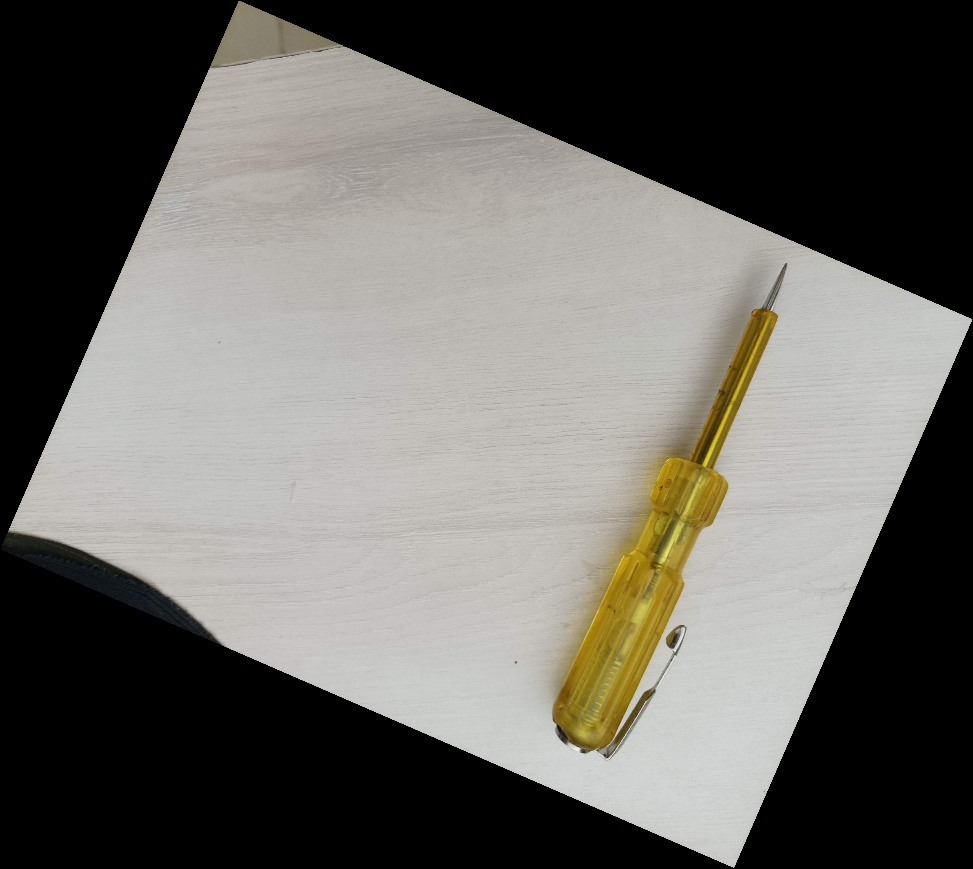screwdriver: (549, 257, 793, 761)
